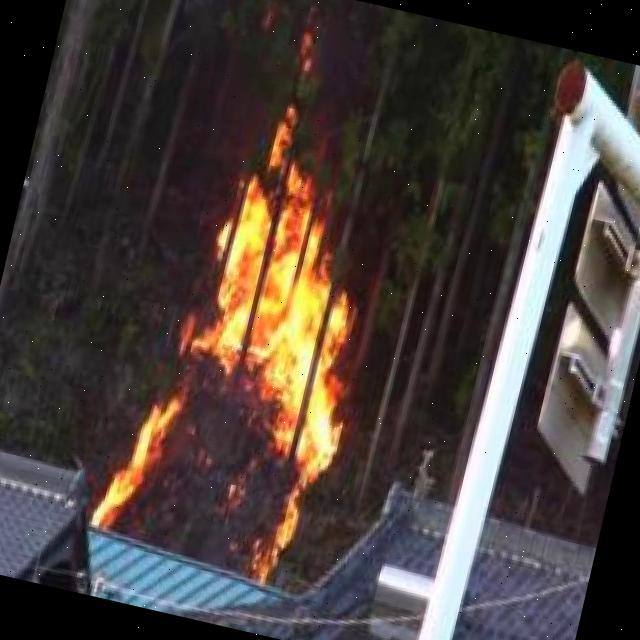fire: (92, 99, 406, 589)
